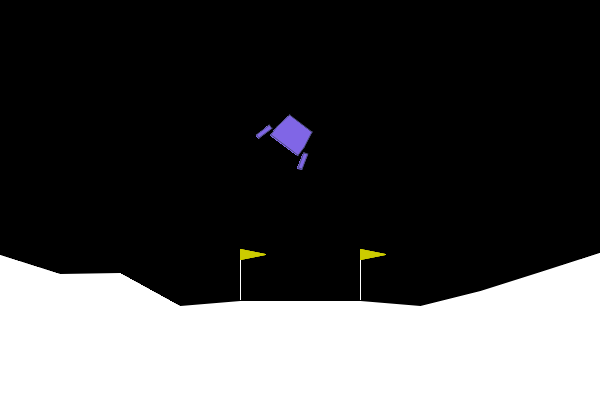lander: (254, 104, 326, 172)
